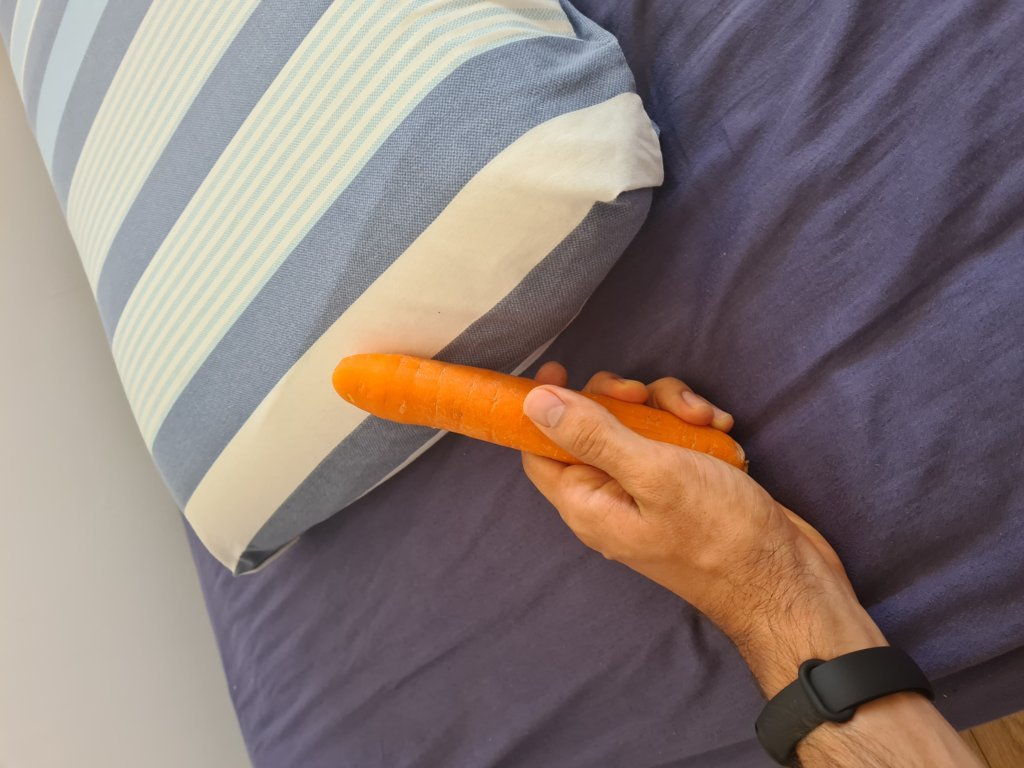carrot: (329, 347, 753, 488)
